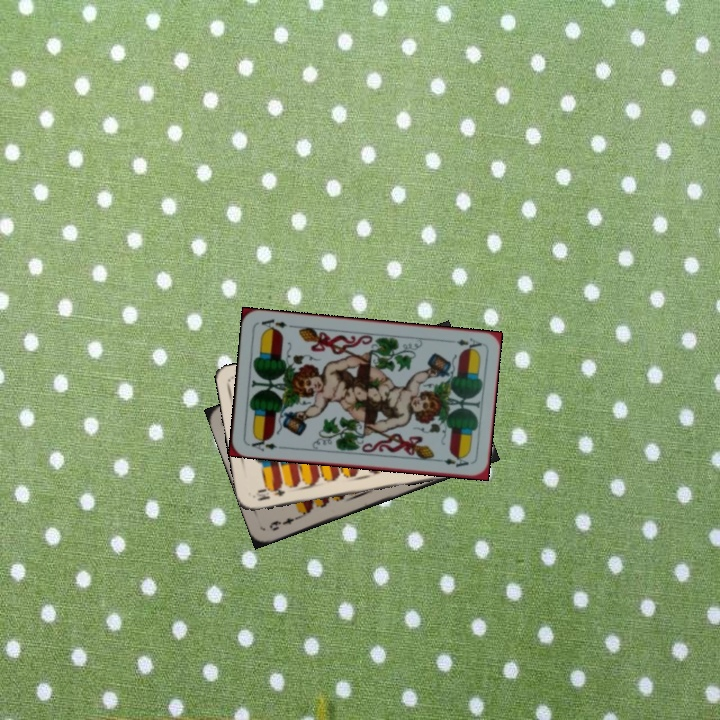E10: (252, 482, 288, 503)
E9: (265, 511, 303, 533)
EA: (245, 433, 279, 454), (453, 334, 484, 353)
